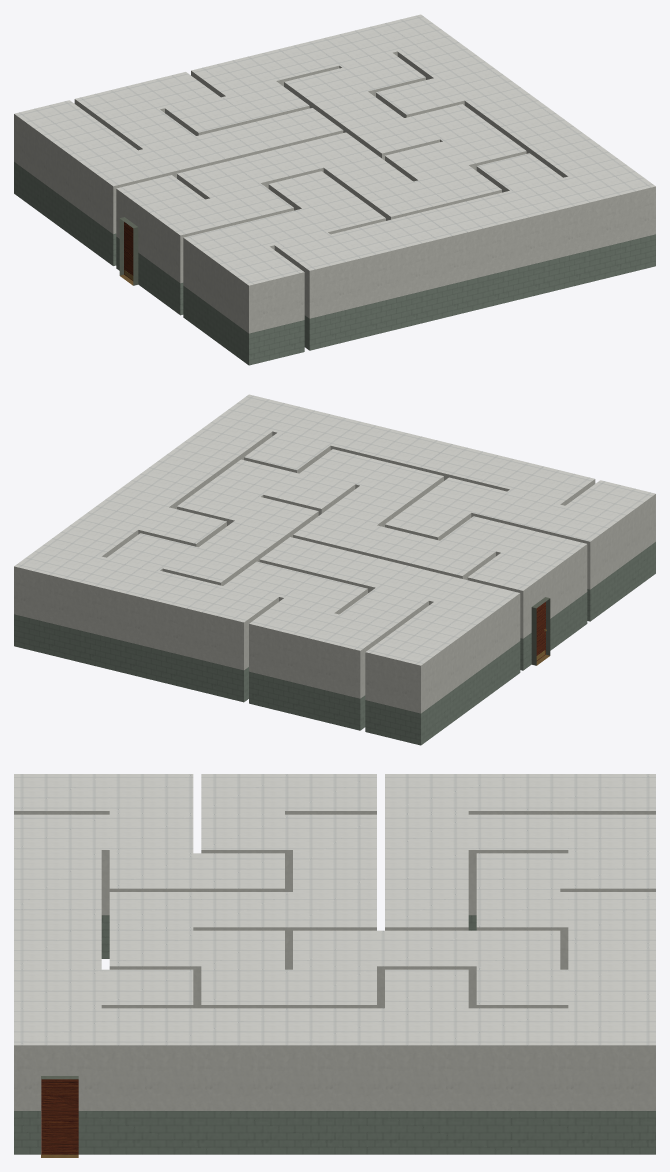
File: maze_04.glb
3 views of the same model, one above another, from view 1: azimuth 30°, elevation 25°; view 2: azimuth 150°, elevation 25°; view 3: azimuth 270°, elevation 25° (orthographic). The views are drawn at different scales.
Parts seen in each view (by area): view 1: Skin_Ceiling_Tile.001, Skin_Paint_Upper.001, Skin_Block_Lower.001, Skin_Jamb_Steel.001, DoorLeaf_entry; view 2: Skin_Ceiling_Tile.001, Skin_Paint_Upper.001, Skin_Block_Lower.001, Skin_Jamb_Steel.001, DoorLeaf_entry; view 3: Skin_Ceiling_Tile.001, Skin_Paint_Upper.001, Skin_Block_Lower.001, DoorLeaf_way_on.
Part boxes in pixels (bbox=[...]): Skin_Ceiling_Tile.001: bbox=[14, 14, 655, 285]; Skin_Paint_Upper.001: bbox=[14, 51, 655, 333]; Skin_Block_Lower.001: bbox=[14, 162, 655, 365]; Skin_Jamb_Steel.001: bbox=[119, 217, 138, 285]; DoorLeaf_entry: bbox=[124, 222, 133, 280]; Skin_Ceiling_Tile.001: bbox=[14, 394, 655, 665]; Skin_Paint_Upper.001: bbox=[14, 431, 655, 713]; Skin_Block_Lower.001: bbox=[14, 542, 655, 745]; Skin_Jamb_Steel.001: bbox=[531, 597, 550, 665]; DoorLeaf_entry: bbox=[536, 602, 546, 660]; Skin_Ceiling_Tile.001: bbox=[14, 774, 655, 1045]; Skin_Paint_Upper.001: bbox=[14, 811, 655, 1110]; Skin_Block_Lower.001: bbox=[14, 915, 655, 1154]; DoorLeaf_way_on: bbox=[41, 1079, 78, 1154].
Bounding box in the file's own units: 16.4 × 3 × 16.
19 materials, 13 textured.
